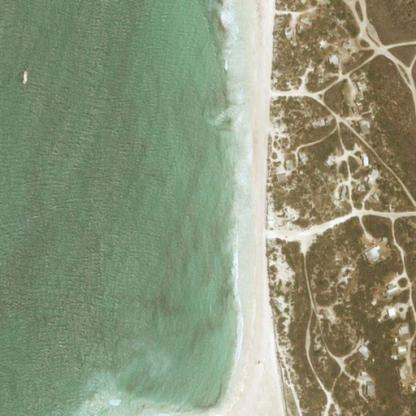ship: (18, 63, 31, 87)
